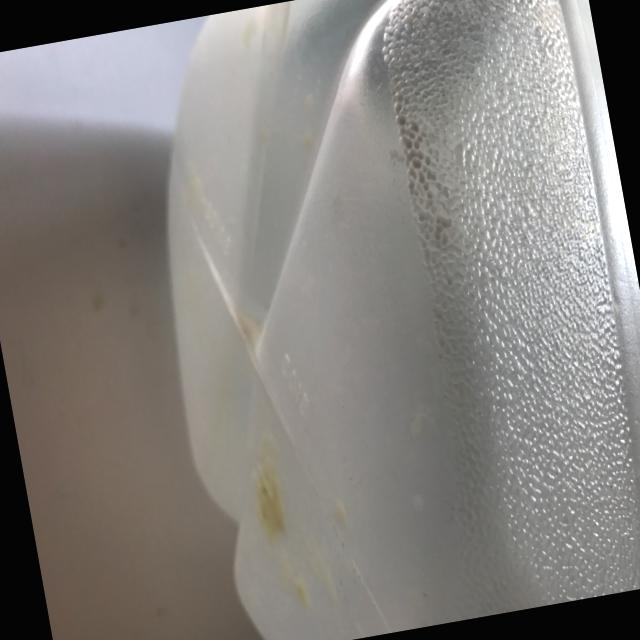Plastic: (61, 0, 640, 640)
